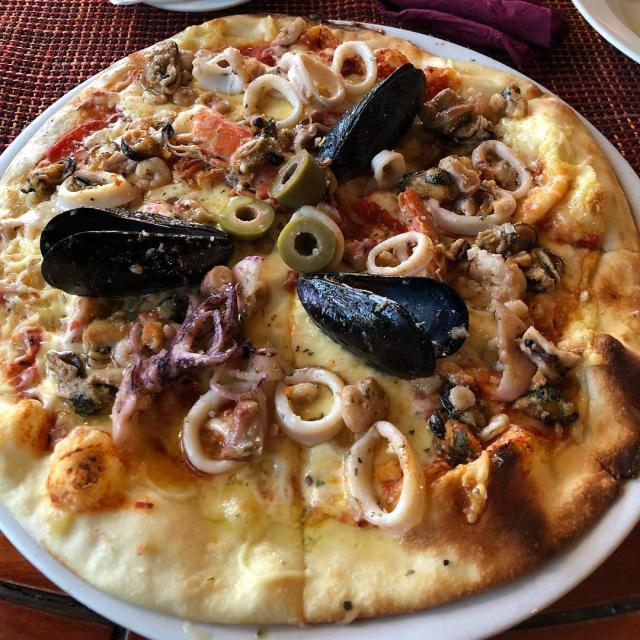green_olives: (277, 215, 337, 275), (270, 149, 328, 208), (215, 196, 277, 239)
pizza: (0, 15, 640, 630)
